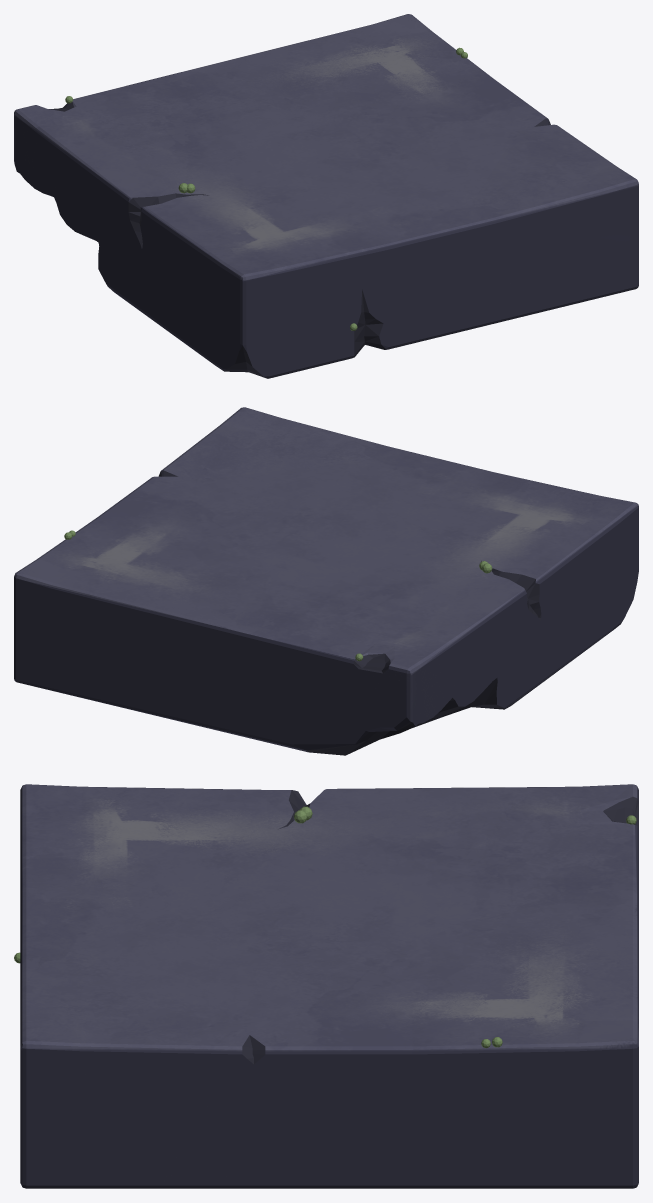
Rendered from 3Platform.fbx.
3 renders of one model, top to bottom at view 1: azimuth 30°, elevation 25°; view 2: azimuth 150°, elevation 25°; view 3: azimuth 270°, elevation 25°, orthographic. The views are drawn at different scales.
Parts seen in each view (by area): view 1: Icosphere.003; view 2: Icosphere.003; view 3: Icosphere.003.
Part boxes in pixels (x1,y1,x2,y2): Icosphere.003: (14, 14, 638, 378); Icosphere.003: (14, 407, 638, 755); Icosphere.003: (14, 784, 638, 1188).
Bounding box in the file's own units: 260 × 263 × 71.31.
Materials: 1 (1 with a texture image).
